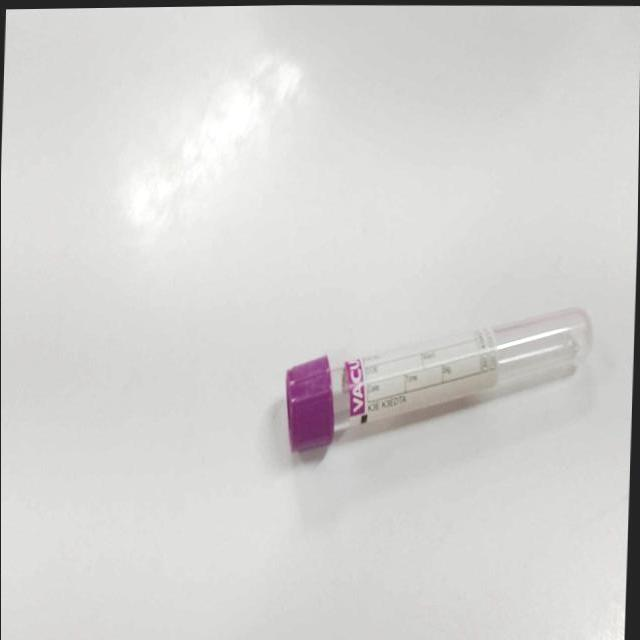Sharps: (285, 305, 595, 455)
